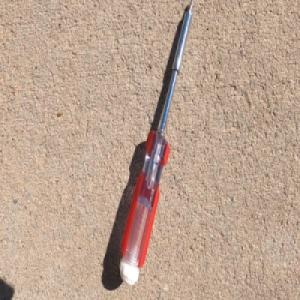Screwdriver: (118, 0, 194, 287)
